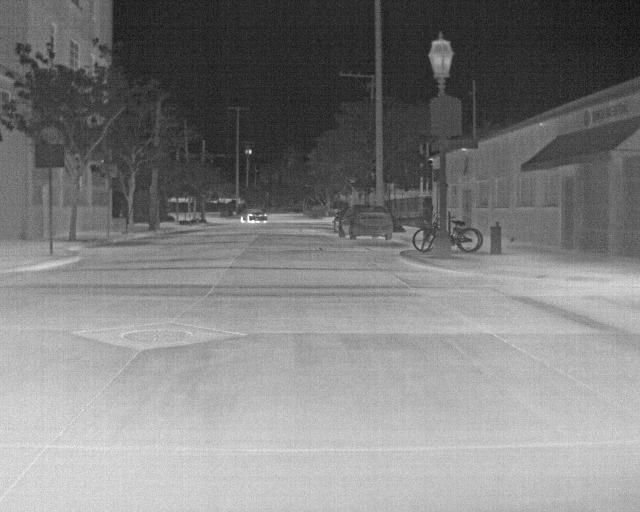bicycle: (451, 218, 485, 254), (410, 220, 438, 252)
car: (338, 204, 394, 240), (242, 207, 268, 222), (333, 213, 341, 234)
